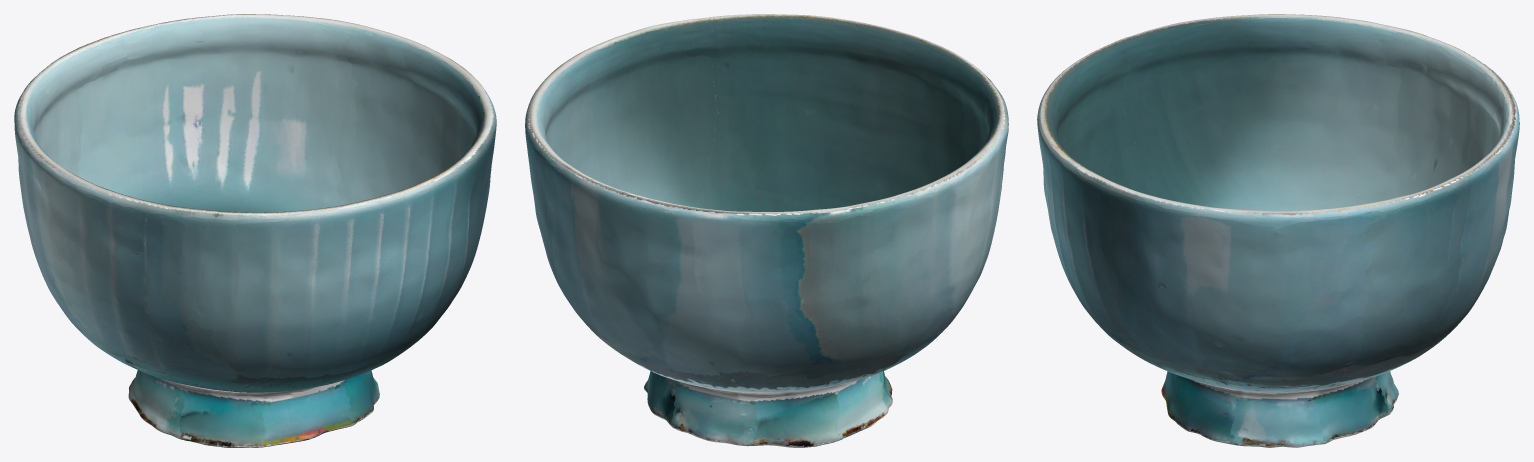
Rendered from text2tex.glb.
3 renders of one model, left to right at view 1: azimuth 30°, elevation 25°; view 2: azimuth 150°, elevation 25°; view 3: azimuth 270°, elevation 25°, orthographic.
Visible parts, largest first — view 1: 9; view 2: 9; view 3: 9.
Part boxes in pixels (x1,y1,x2,y2): 9: [14, 14, 496, 447]; 9: [525, 14, 1008, 447]; 9: [1037, 14, 1519, 447].
Size of the model in its own units: 0.9989 by 0.6509 by 1.
Materials: 1 (1 with a texture image).
